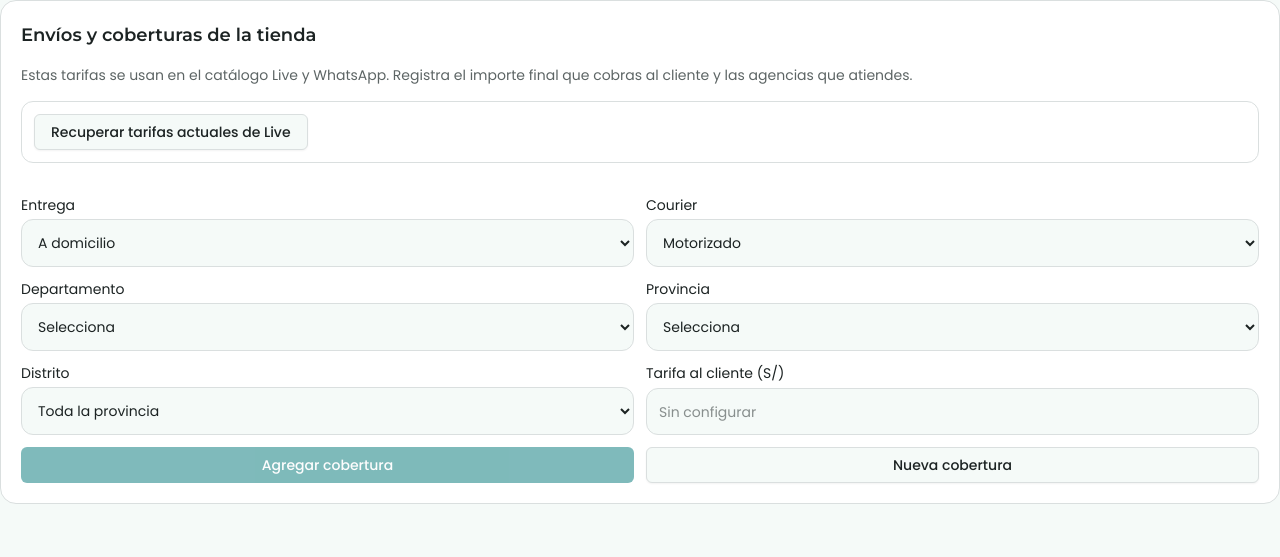
Scenario: does not import fallback prices or agencies after a provider failure
The width and height of the screenshot is (1280, 557).
Step 1. Click the button "Recuperar tarifas actuales de Live" → [171, 132], box [34,114,308,150]
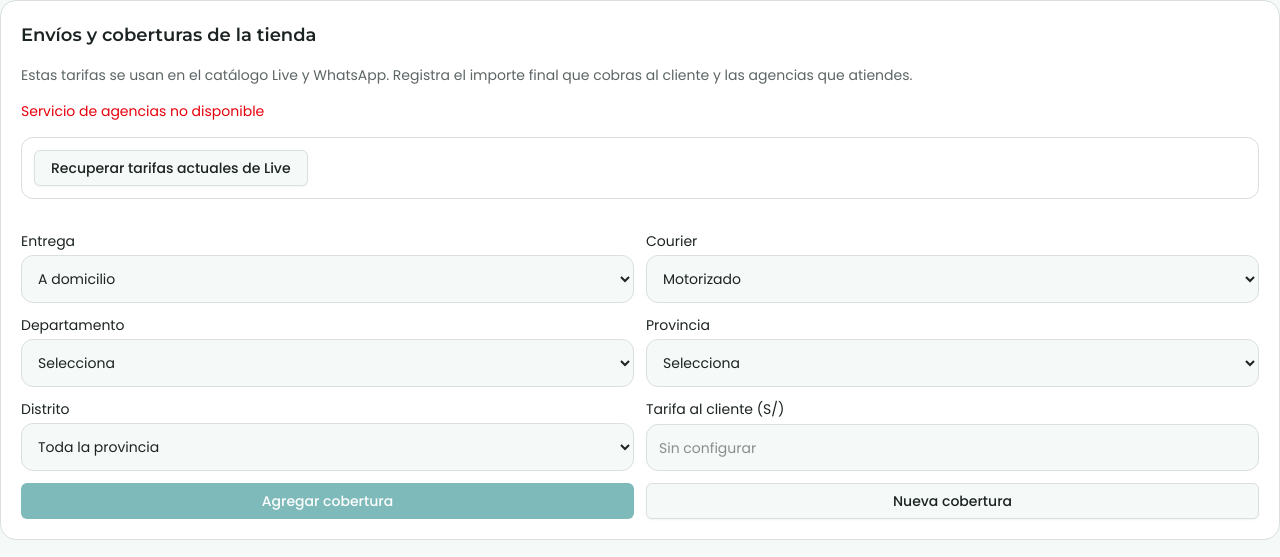
Expected: the message reads "Servicio de agencias no disponible", [21,101,264,121]
